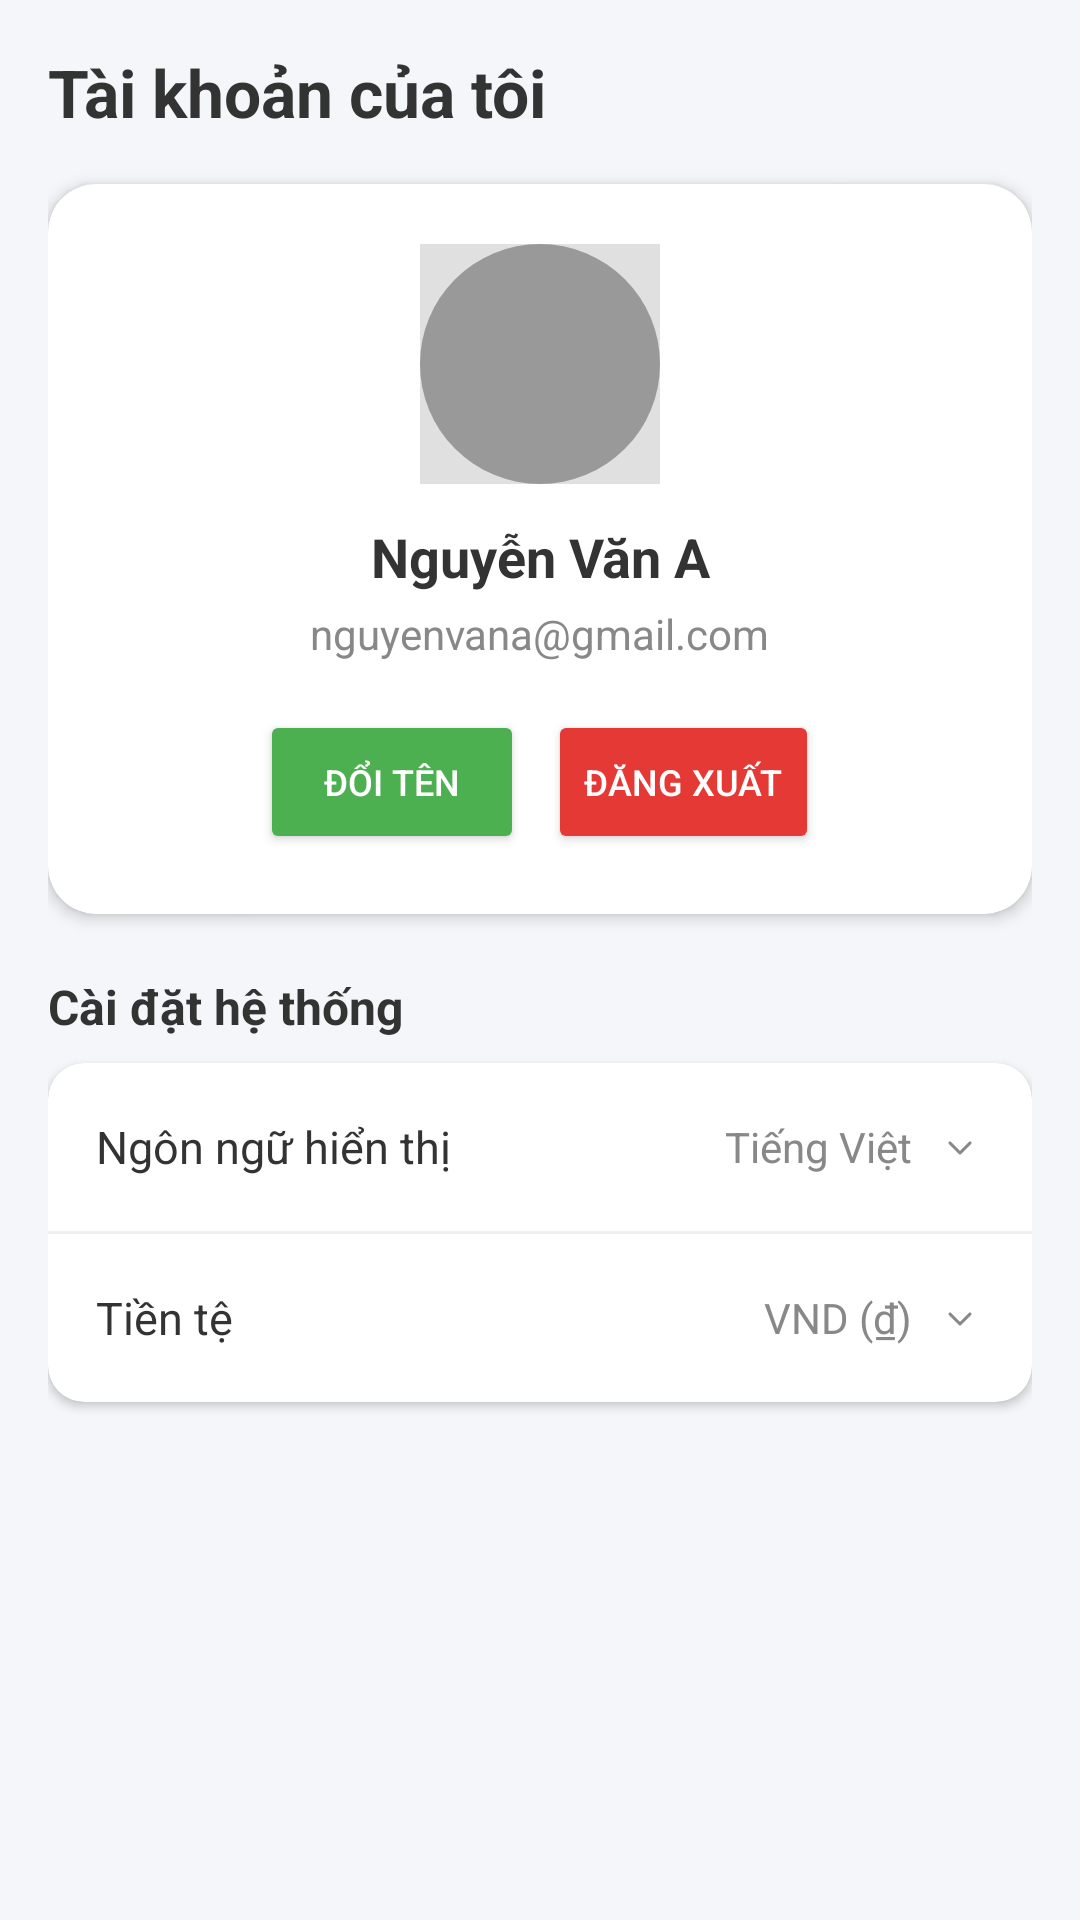

Named icons in this screenshot (1080px×1920px) and their bounding boxes, bbox=(x1, y1, x2, y2):
keyboard arrow down: bbox=(948, 1141, 972, 1155), bbox=(948, 1312, 972, 1326)
